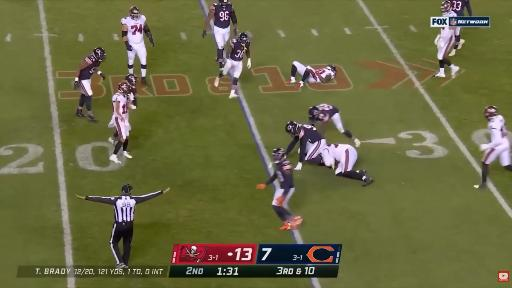Helmet: (484, 106, 499, 122), (272, 148, 285, 163), (118, 82, 131, 95), (94, 48, 106, 61), (286, 120, 297, 134), (441, 1, 452, 13), (127, 74, 137, 87), (309, 106, 319, 119), (131, 7, 140, 19), (239, 33, 248, 45), (327, 65, 336, 75), (218, 0, 229, 7)
Jersey: (286, 125, 323, 155), (121, 15, 146, 44), (488, 115, 509, 146), (210, 3, 234, 28), (275, 159, 294, 189), (79, 55, 100, 80), (309, 104, 339, 121), (324, 144, 350, 162), (229, 39, 250, 61), (298, 125, 323, 143), (112, 93, 127, 116), (311, 68, 334, 82), (452, 0, 470, 16), (440, 27, 454, 41)
Player: (257, 148, 302, 229), (475, 106, 511, 188), (121, 7, 154, 83), (202, 0, 237, 69), (74, 47, 106, 121), (215, 33, 251, 98), (308, 104, 361, 147), (321, 144, 373, 186), (286, 122, 326, 170), (109, 82, 131, 163), (434, 27, 459, 77), (288, 62, 336, 87), (125, 74, 137, 110), (125, 74, 137, 109), (452, 0, 472, 16)
